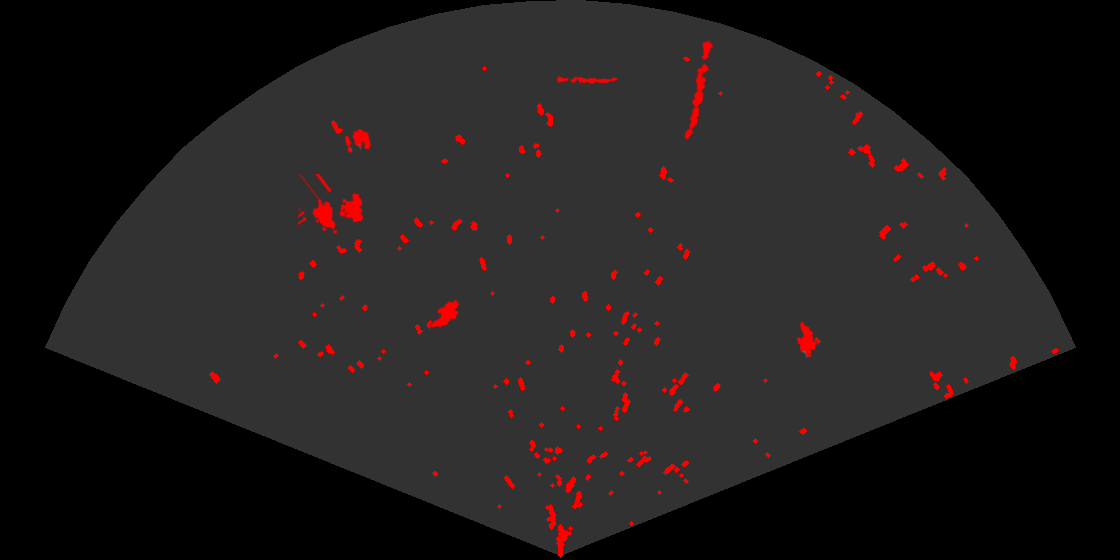AUV: (429, 298, 461, 329), (795, 320, 818, 359)
ball: (343, 127, 373, 155)
cage: (298, 174, 365, 235)
chain: (682, 38, 716, 142), (556, 74, 618, 86)
